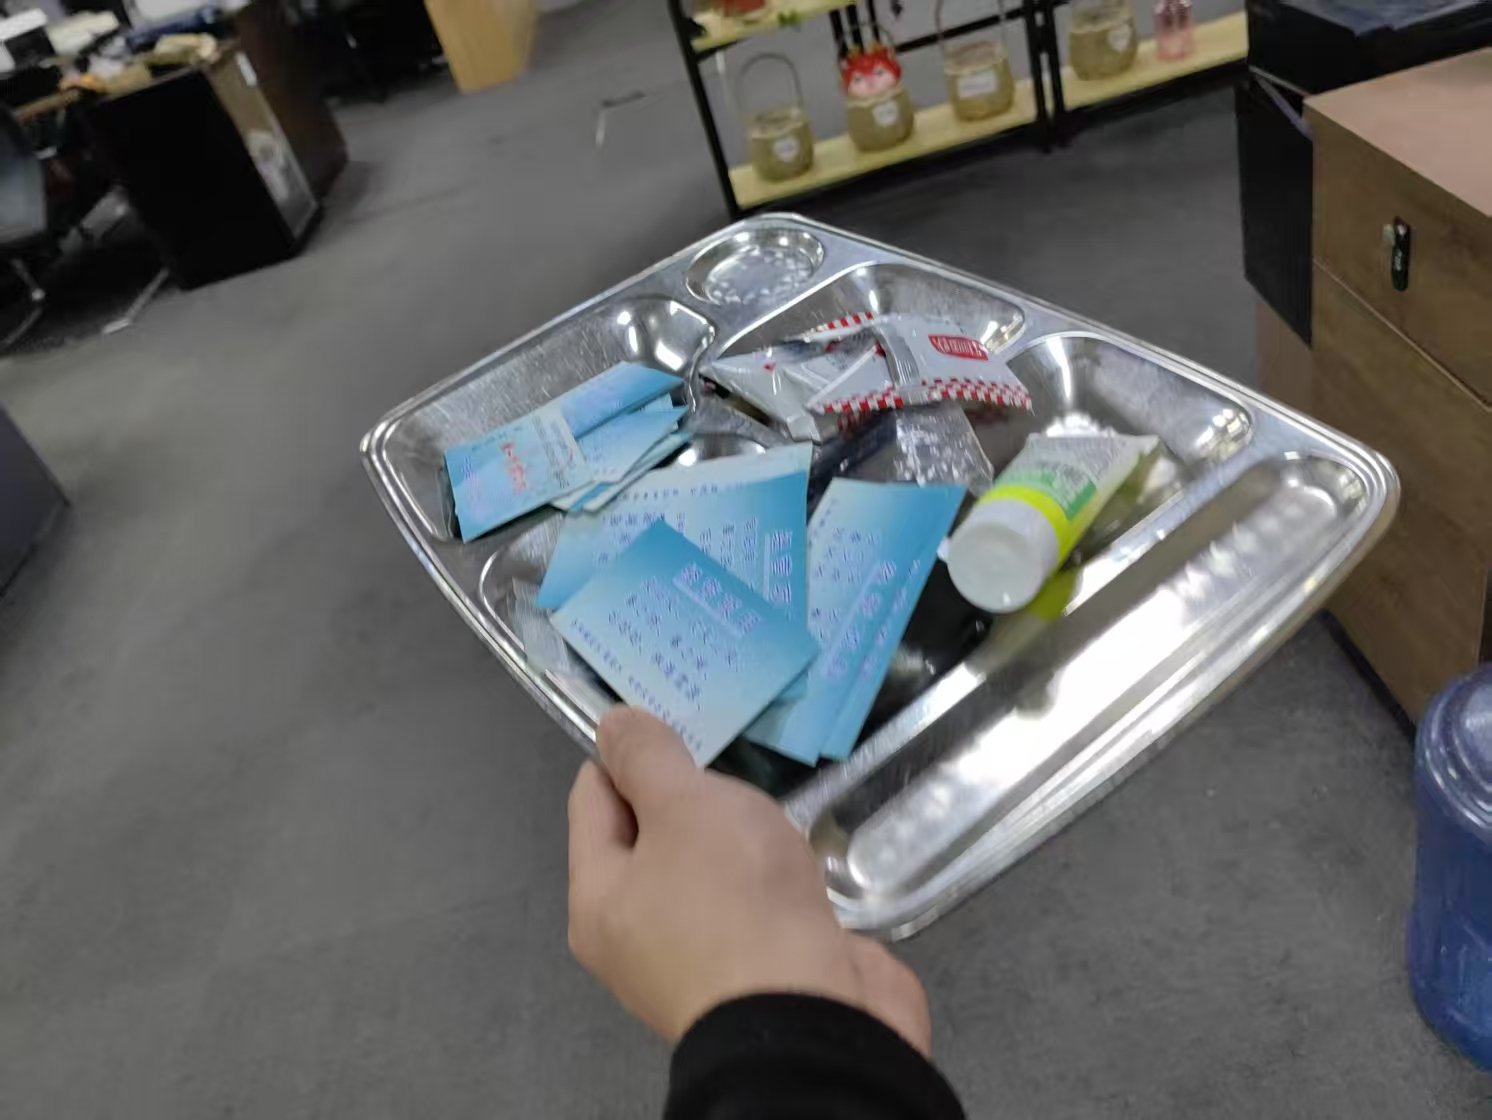plate: (357, 207, 1404, 936)
severe: (443, 312, 1162, 766)
